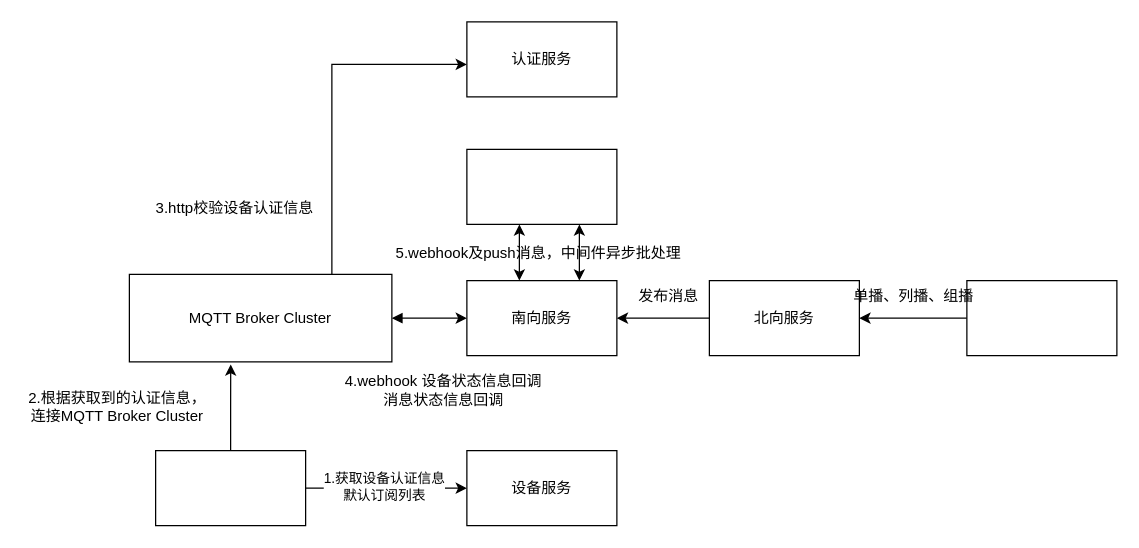
Some shapes in this 1139 by 548 pixel diagram are drawn without their labels. Here are the shapes that lost their labels. From the top down, the centre of each, then its label:
At (541,186): "Kafka".
At (1041,317): "运营管理 Portal".
At (230,487): "设备".
